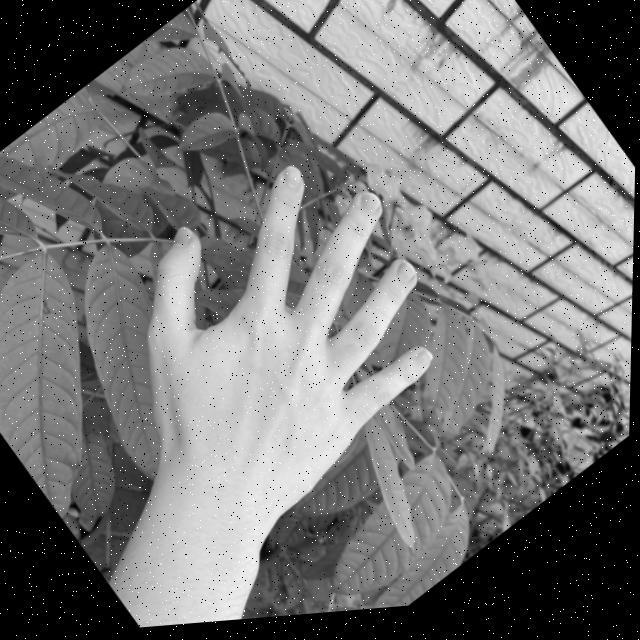no-gloves: (76, 109, 500, 557)
